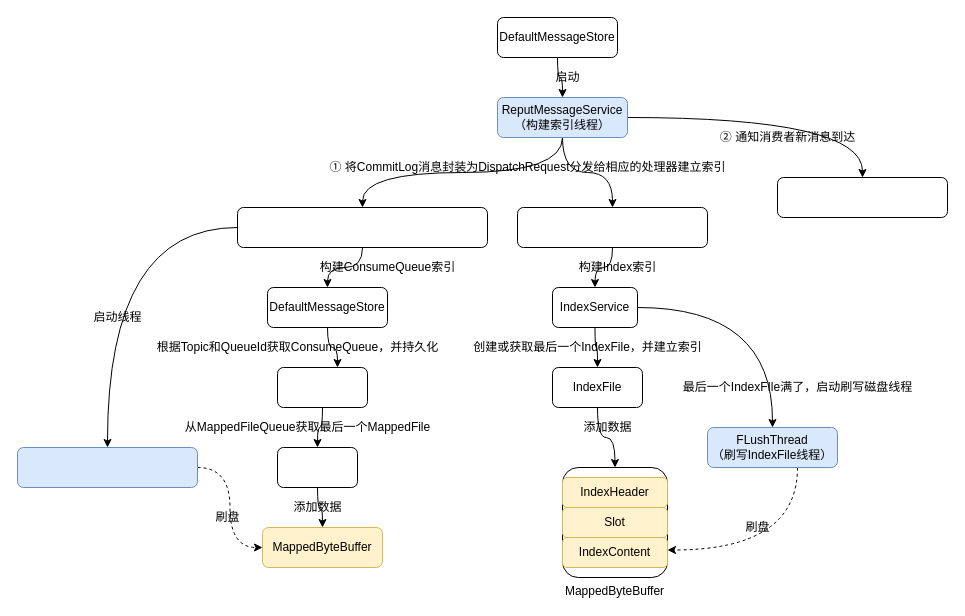
This 965x616 diagram has some shape labels left out. The shapes that lost their labels are listed below. From the top down, each one's centre as x and y in pixels, then its label:
At [862,197]: "MessageArrivingListener".
At [362,227]: "CommitLogDispatcherBuildConsumeQueue （消费者消费）".
At [612,227]: "CommitLogDispatcherBuildIndex （关键字查询）".
At [322,387]: "ConsumeQueue".
At [107,467]: "FlushConsumeQueueService （刷写ConsumeQueue线程）".
At [317,467]: "MappedFile".
